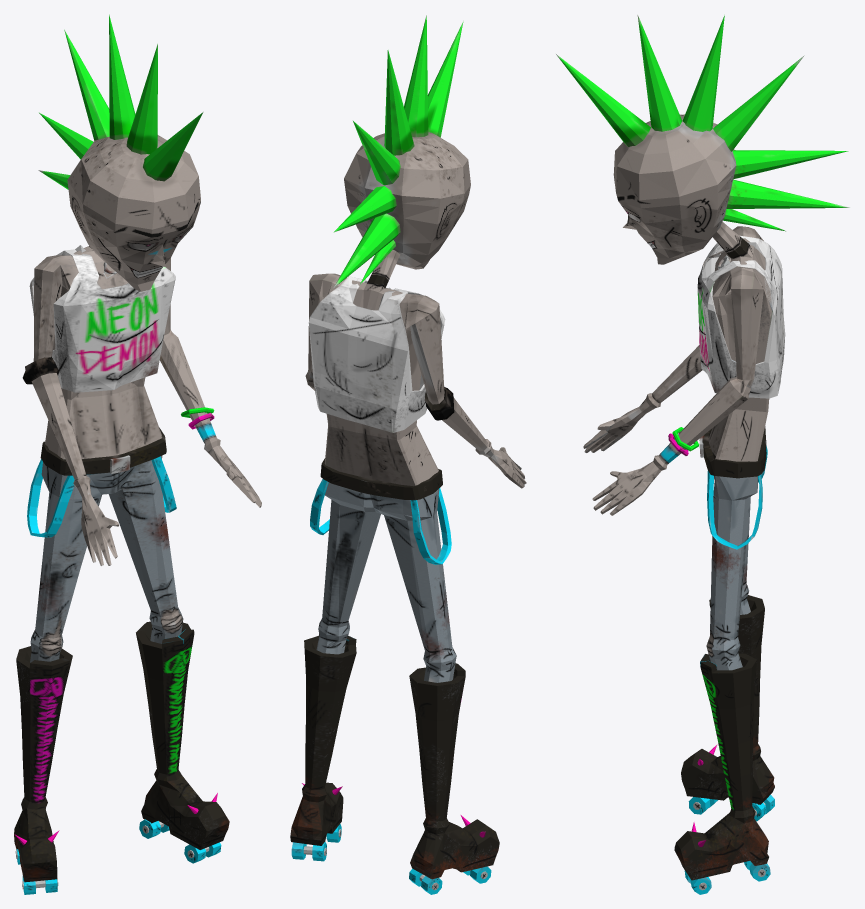
Rendered from punkAnimation_000032.obj.
3 views of the same model, side by side, from view 1: azimuth 30°, elevation 25°; view 2: azimuth 150°, elevation 25°; view 3: azimuth 270°, elevation 25° (orthographic). The views are drawn at different scales.
Parts seen in each view (by area): view 1: Cube.004_Cube.003; view 2: Cube.004_Cube.003; view 3: Cube.004_Cube.003.
Part boxes in pixels (bbox=[...]): Cube.004_Cube.003: bbox=[14, 14, 261, 894]; Cube.004_Cube.003: bbox=[290, 15, 526, 894]; Cube.004_Cube.003: bbox=[556, 15, 849, 894].
Bounding box in the file's own units: 1.85 × 7.53 × 2.41.
